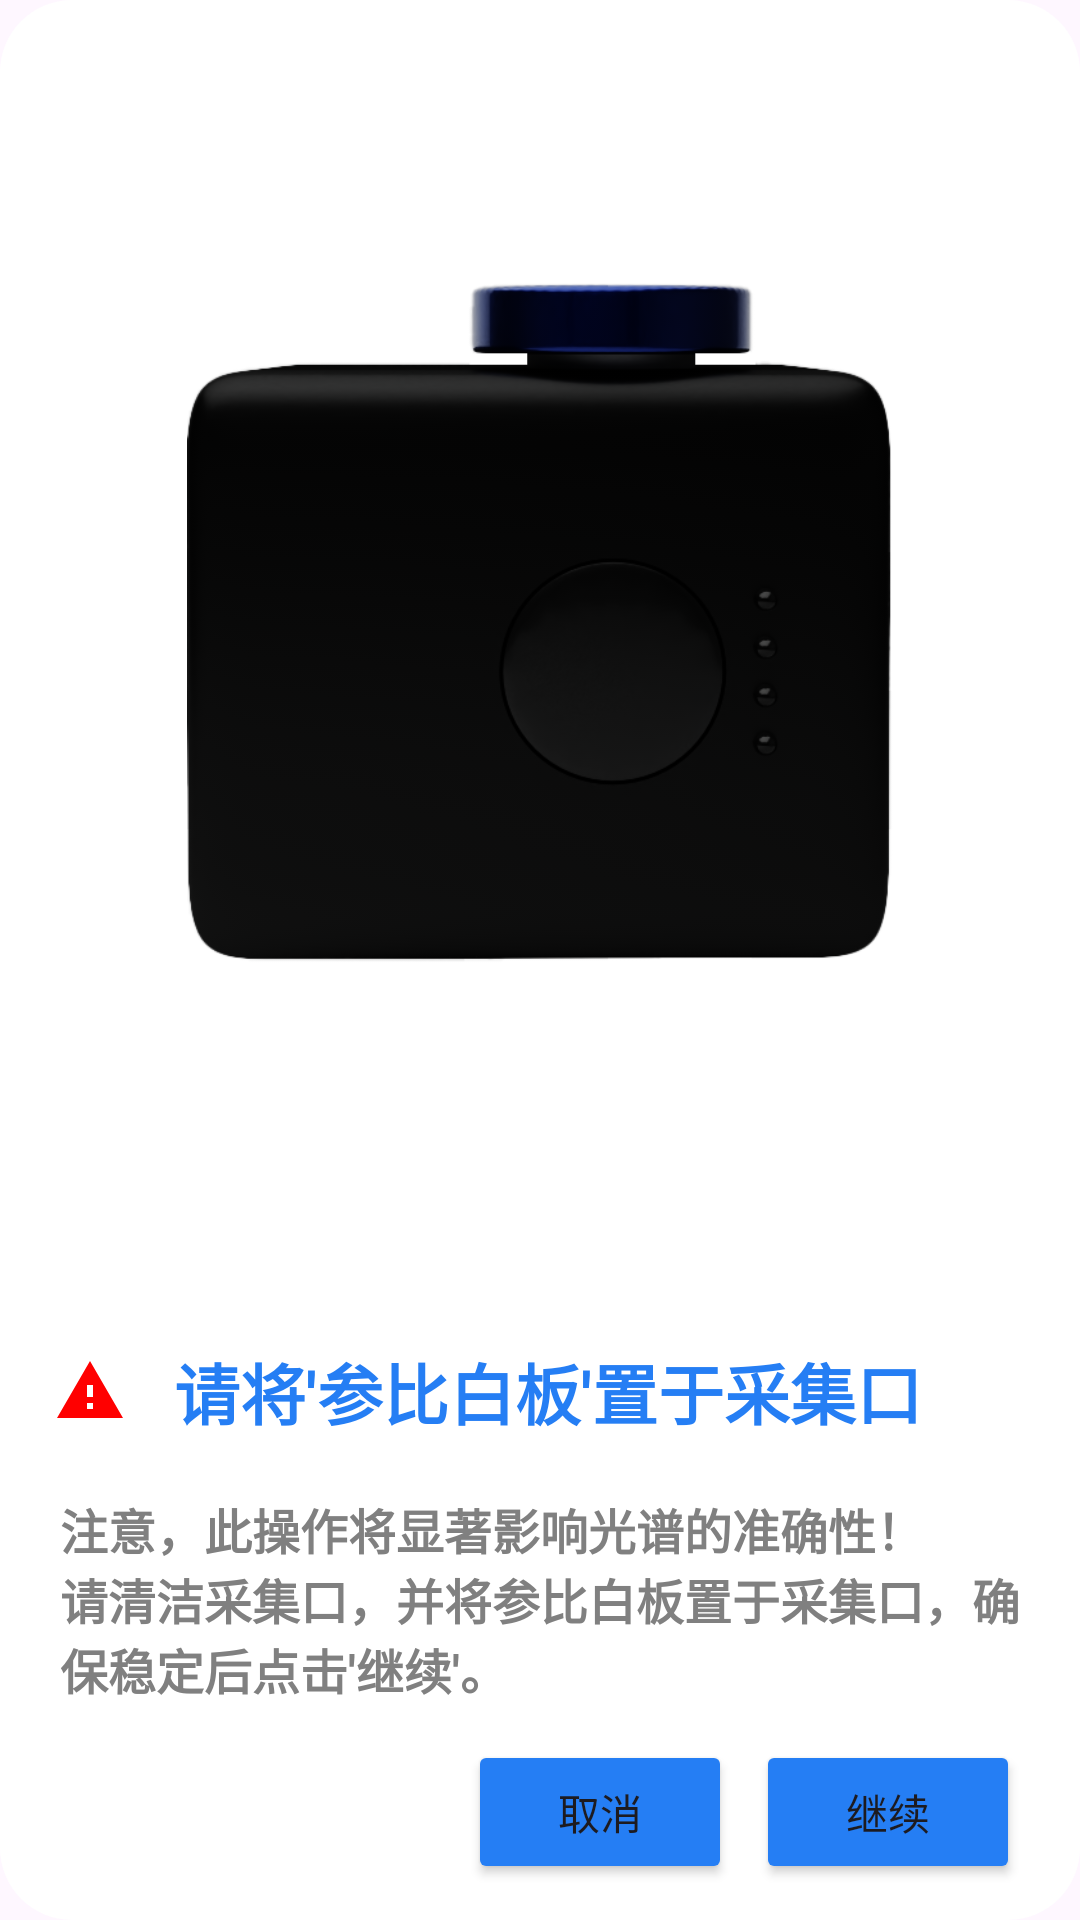

Named icons in this screenshot (1080x1920) and their centers, (x=x, y=y):
warning: (x=90, y=1389)
